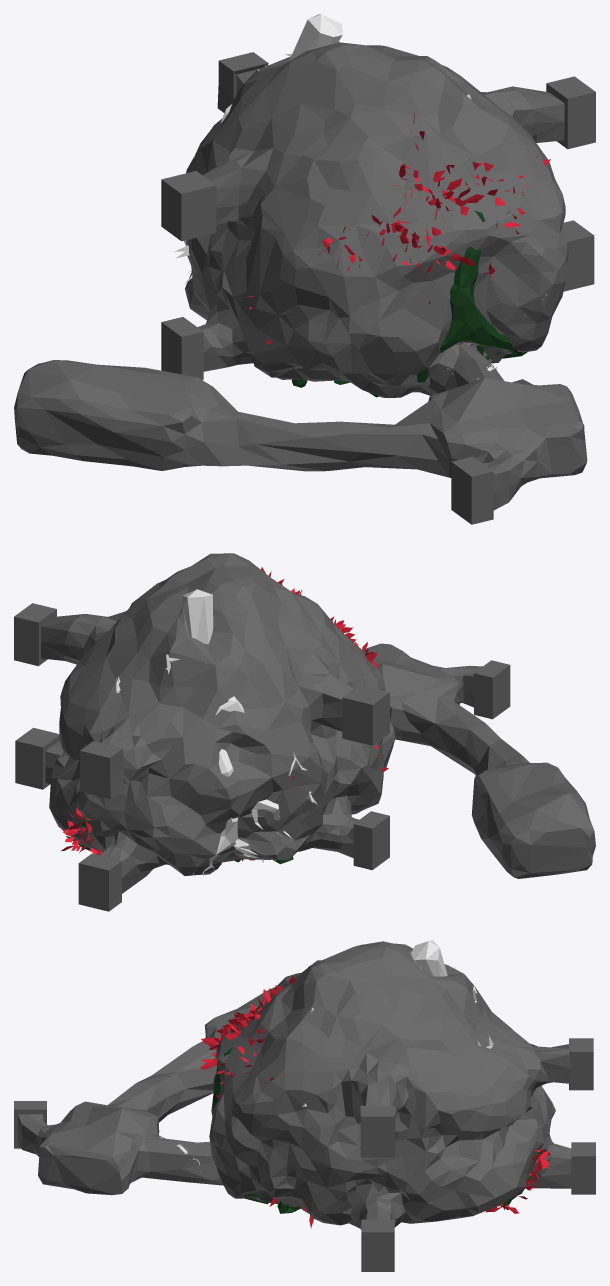
The model's file is TreeLevel.fbx.
3 views of the same model, one above another, from view 1: azimuth 30°, elevation 25°; view 2: azimuth 150°, elevation 25°; view 3: azimuth 270°, elevation 25° (orthographic). The views are drawn at different scales.
Visible parts, largest first — view 1: PoziomTestDeciamte, DuzeDrzewo, Korzeń_Duży; view 2: PoziomTestDeciamte, Korzeń_Duży, Cube, DuzeDrzewo; view 3: PoziomTestDeciamte, DuzeDrzewo, Korzeń_Duży, Cube.
Boxes of the visible parts, left/top/right/bottom form: PoziomTestDeciamte: left=14, top=42, right=595, bottom=524; DuzeDrzewo: left=318, top=113, right=550, bottom=397; Korzeń_Duży: left=184, top=14, right=342, bottom=284; PoziomTestDeciamte: left=14, top=553, right=595, bottom=911; Korzeń_Duży: left=182, top=589, right=307, bottom=875; Cube: left=61, top=807, right=102, bottom=855; DuzeDrzewo: left=261, top=567, right=378, bottom=669; PoziomTestDeciamte: left=14, top=941, right=595, bottom=1271; DuzeDrzewo: left=200, top=975, right=295, bottom=1204; Korzeń_Duży: left=410, top=940, right=447, bottom=976; Cube: left=486, top=1146, right=550, bottom=1213.
Bounding box in the file's own units: 12432 × 5788 × 12591.
